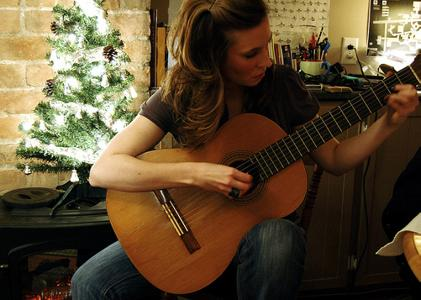person: (71, 3, 420, 299)
